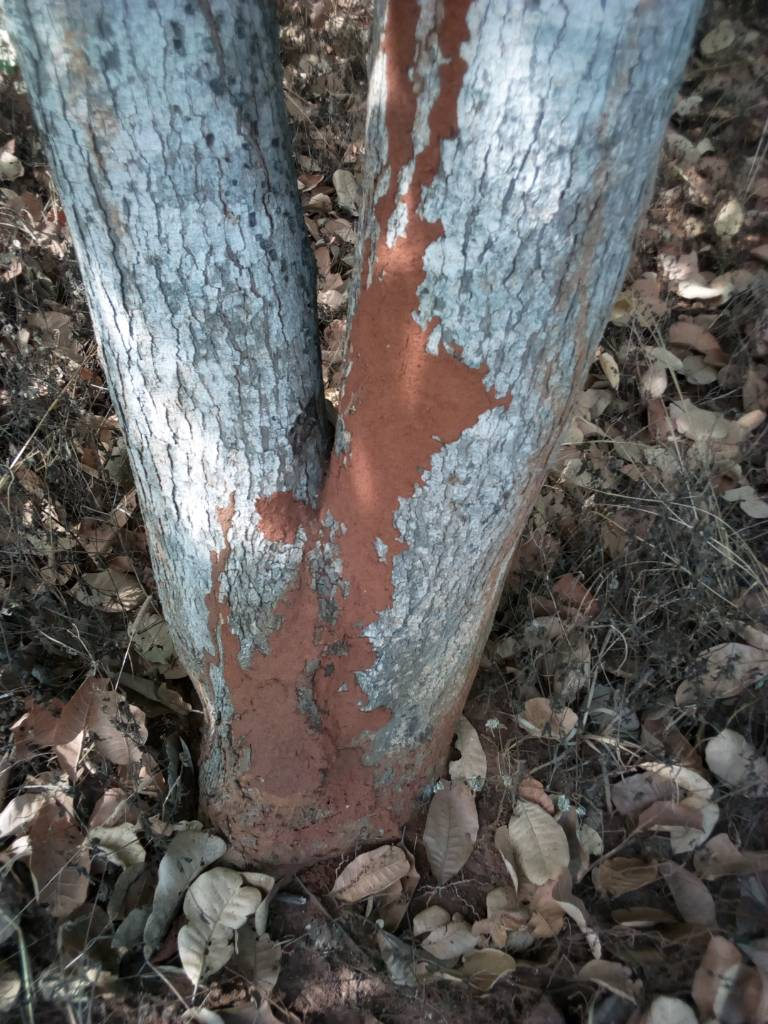Termites: (208, 582, 385, 839), (333, 232, 444, 561), (372, 1, 474, 208)
